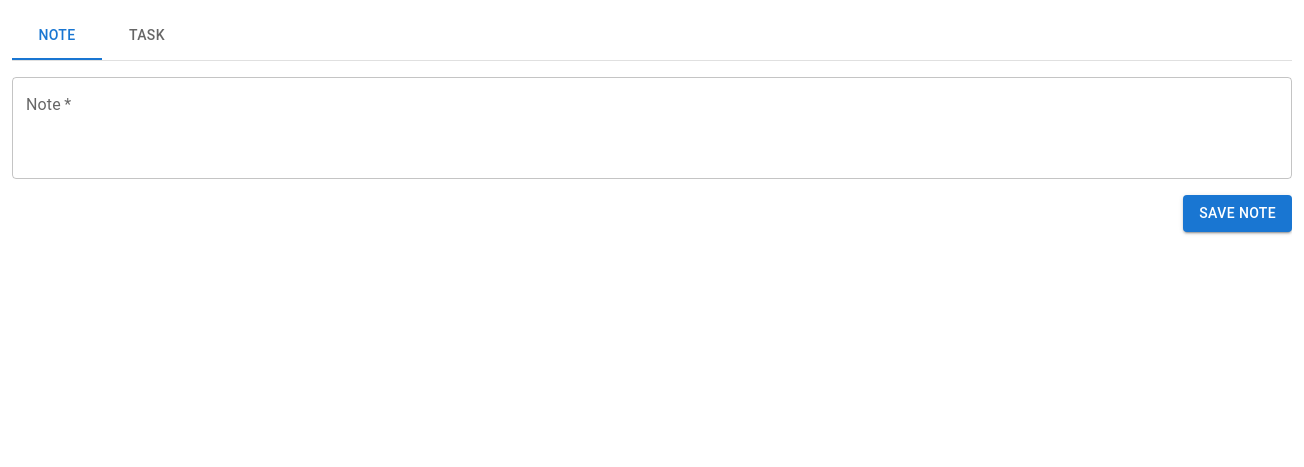
NoteTaskForm › tab switcher › shows Task form fields when Task tab is active
Click the tab "Task": point(147, 36) [102,12,192,60]
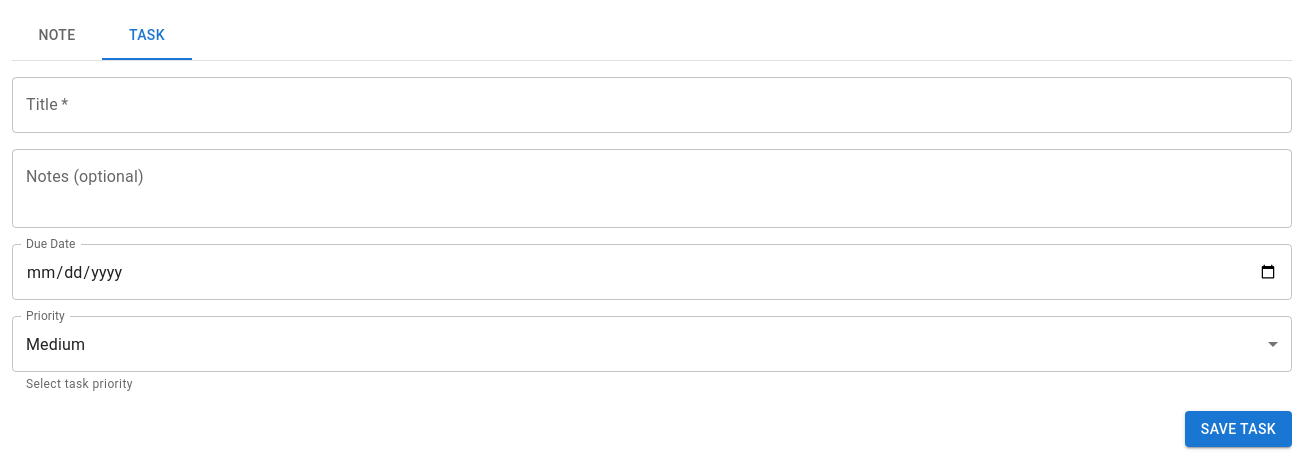
Check: the field named "Task title" is shown, box [12,77,1292,133]
